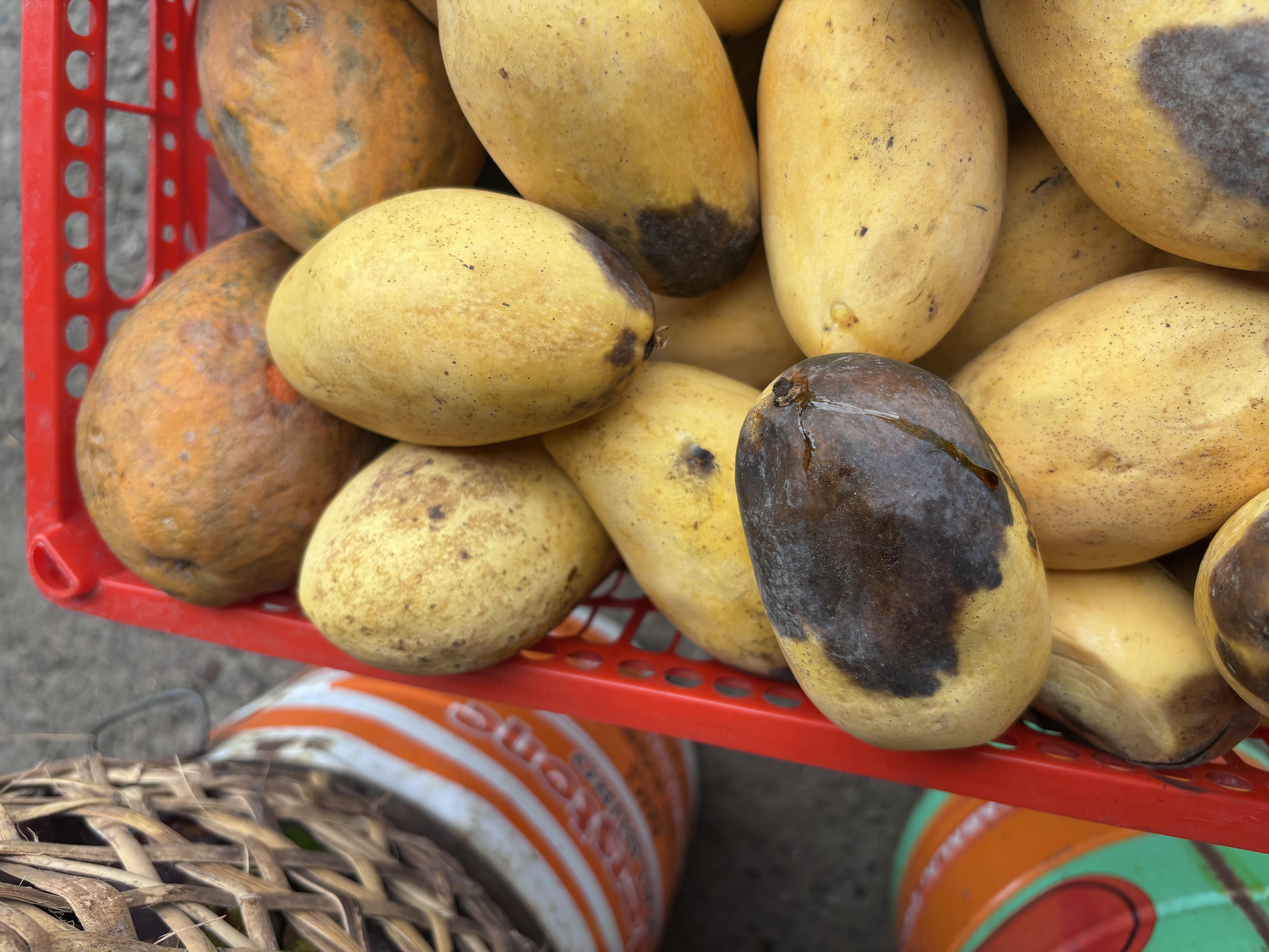mango: (736, 353, 1050, 750), (266, 189, 662, 446)
occluded: (952, 264, 1269, 569), (437, 0, 760, 296), (759, 0, 1005, 360), (982, 0, 1269, 271), (298, 436, 616, 674), (544, 363, 787, 674), (917, 115, 1183, 377), (1034, 562, 1260, 767), (651, 244, 804, 390), (1195, 491, 1269, 716)
